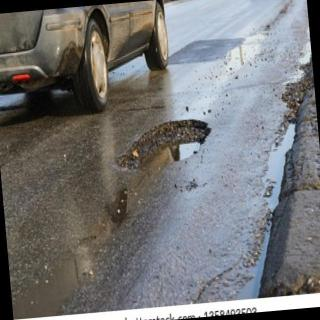pothole: (118, 120, 212, 172)
